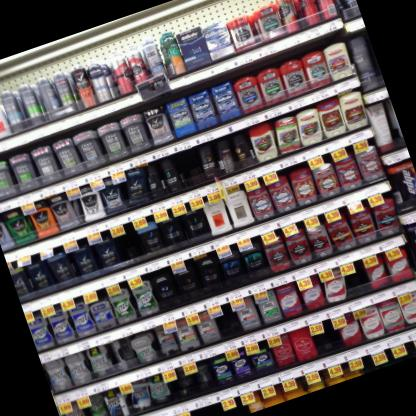empty_space: (211, 300, 246, 360), (345, 267, 376, 311)
